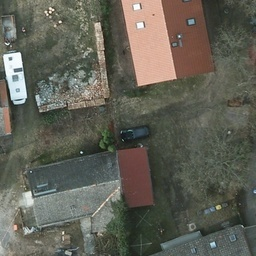car: (120, 125, 150, 142)
